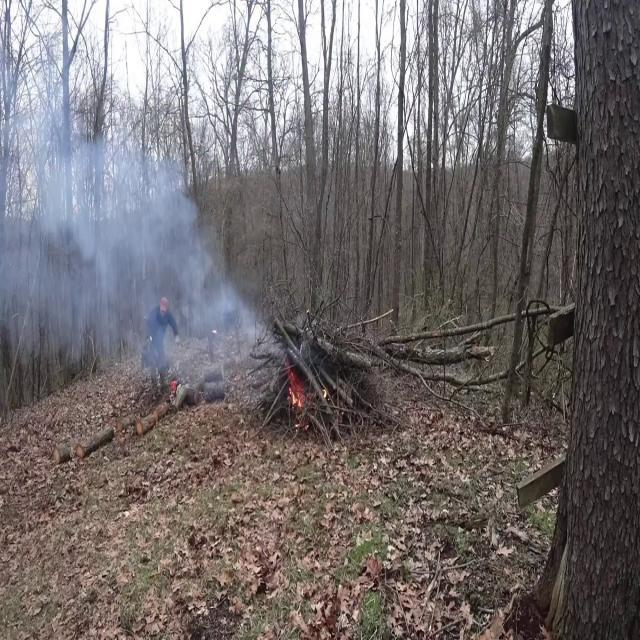Smoke: (0, 79, 256, 407)
